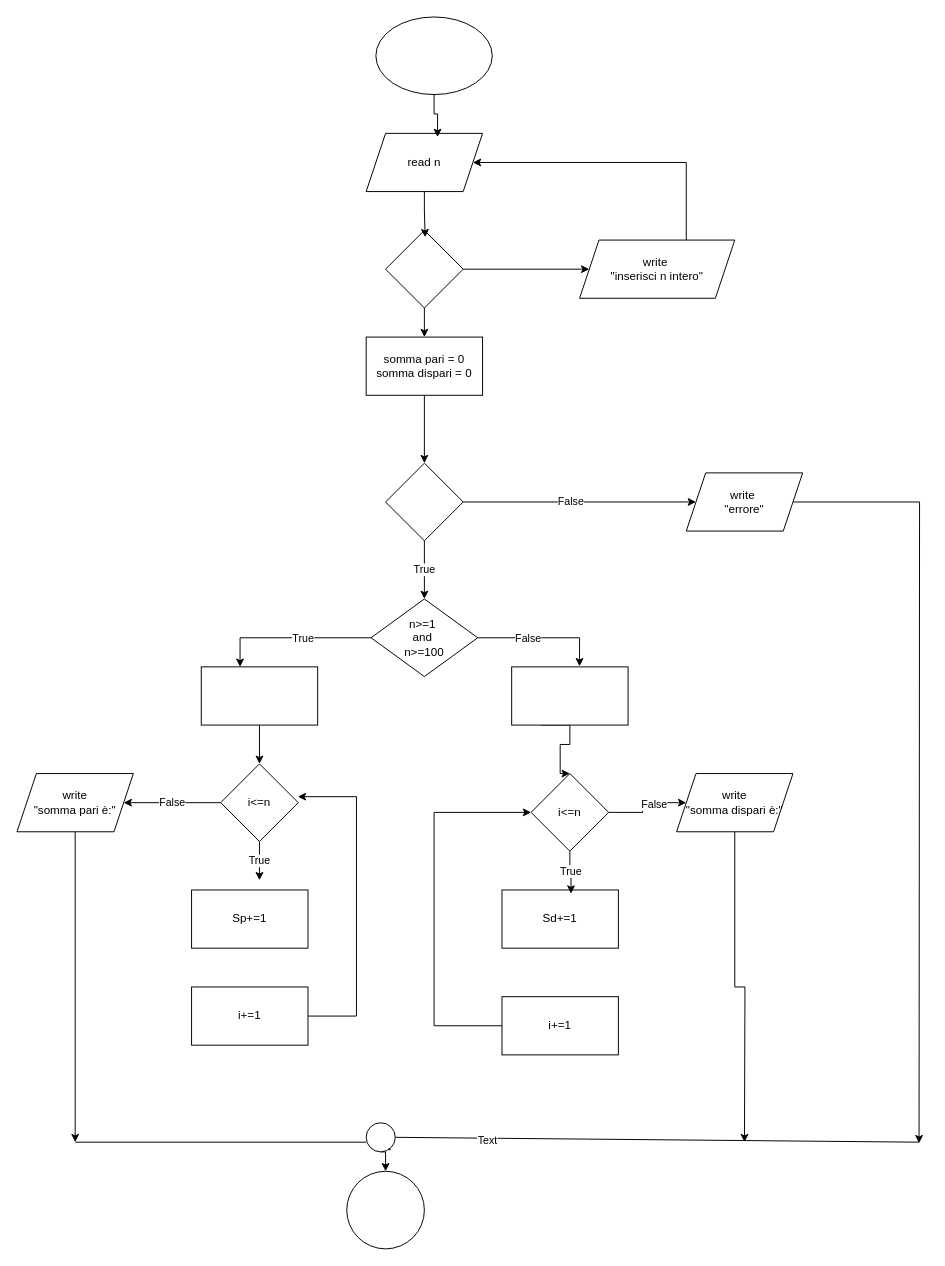
Image size: 945x1266. Some labels were removed from this diagram. The box of each missing label's shape, as (x1, y1, x2, y2) in pixels:
End: (346, 1170, 424, 1249)
i=1: (511, 666, 628, 725)
i=2: (200, 666, 318, 725)
n=int: (385, 229, 463, 308)
n>0: (385, 462, 463, 541)
Start: (375, 16, 492, 95)
